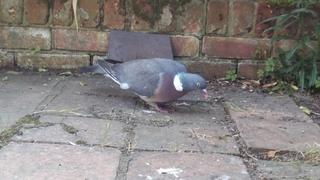wood pigeon: (79, 58, 207, 114)
